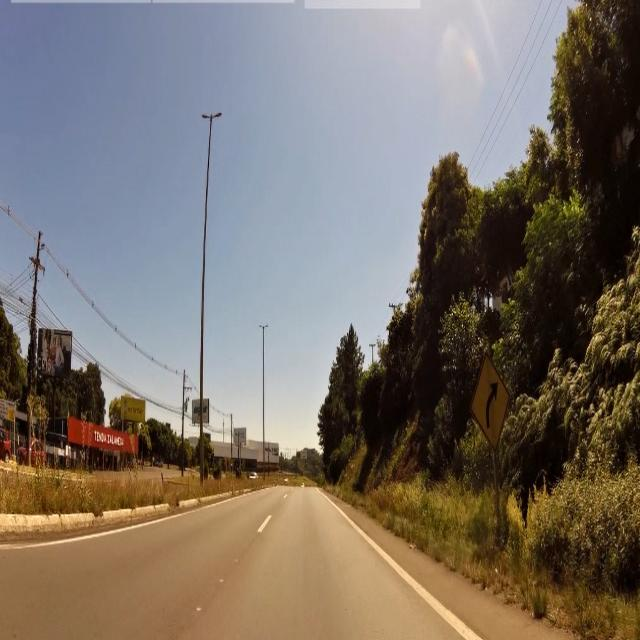A-2b: (471, 356, 510, 450)
